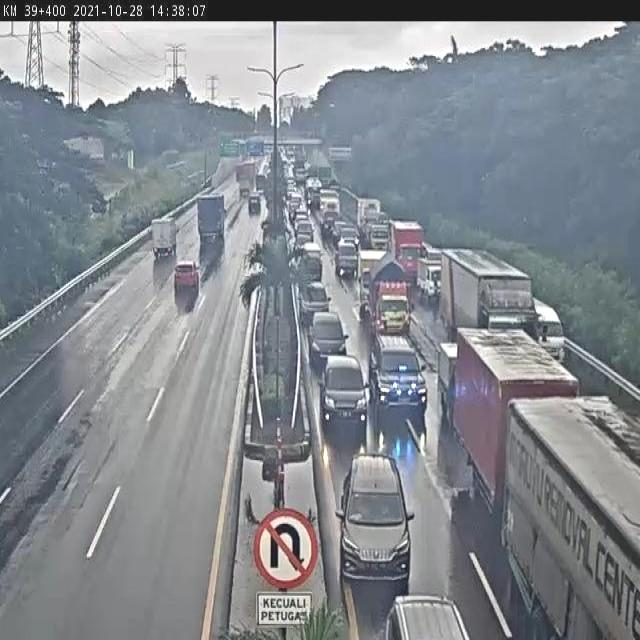Car: (337, 451, 413, 587), (370, 336, 428, 422), (320, 354, 370, 432), (308, 309, 348, 367), (299, 279, 332, 326), (173, 260, 201, 290), (336, 239, 358, 277), (337, 225, 359, 255), (294, 232, 313, 255), (296, 218, 314, 242), (332, 220, 349, 242)
Truck: (499, 392, 640, 640), (449, 324, 581, 516), (438, 247, 548, 351), (366, 255, 412, 325), (388, 219, 426, 283), (438, 340, 463, 424), (357, 248, 387, 307), (197, 194, 226, 245), (415, 248, 442, 302), (356, 196, 384, 234), (151, 218, 177, 258), (298, 242, 324, 281), (319, 196, 342, 233), (365, 220, 391, 251), (304, 176, 323, 206), (242, 160, 257, 186), (292, 164, 308, 185), (238, 173, 251, 198), (254, 172, 267, 192)
